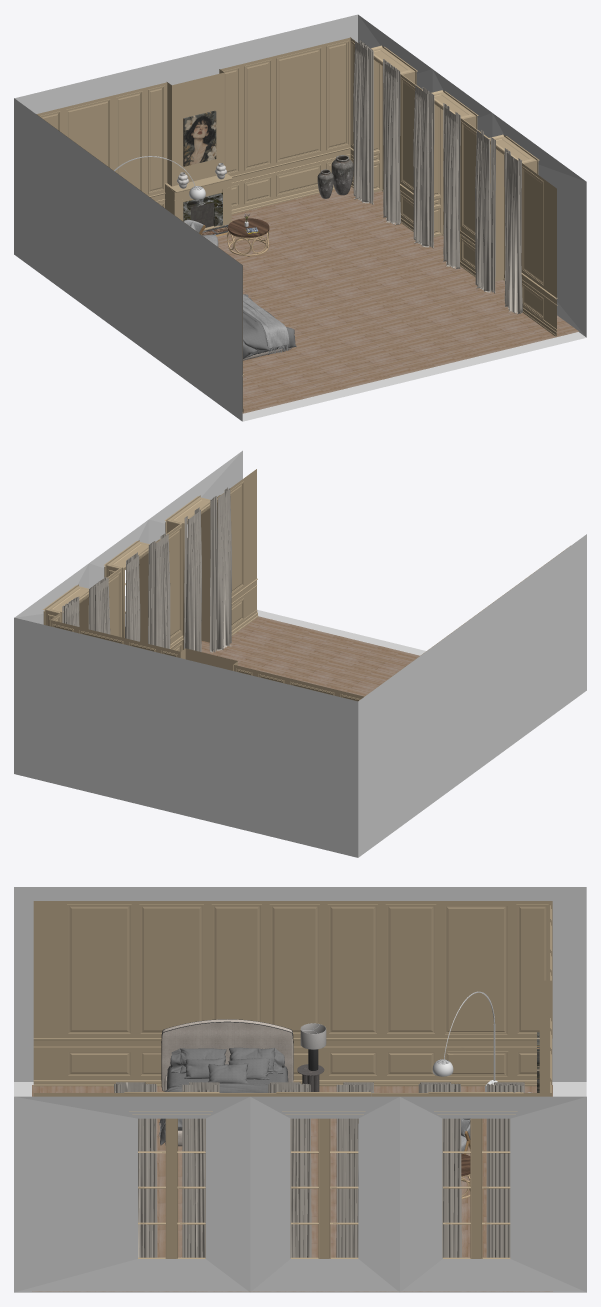
Rendered from Room_V2.11.glb.
3 views of the same model, one above another, from view 1: azimuth 30°, elevation 25°; view 2: azimuth 150°, elevation 25°; view 3: azimuth 270°, elevation 25° (orthographic). The views are drawn at different scales.
Visible parts, largest first — view 1: Blocker, Floor#Floor Room 2, Walls 2#EGE Atlas, Walls 1#EGE Atlas, Curtains#Curtains, Curtains#EGE Atlas, EGE Texture Atlas 1 Room 1#EGE Texture Atlas 1 Room 1, Painting, EGE Texture Atlas 2 Room 1#Blanket, Bed#Sheets, table_wood; view 2: Blocker, Walls 1#EGE Atlas, Floor#Floor Room 2, Curtains#Curtains, Curtains#EGE Atlas, Walls 2#EGE Atlas; view 3: Blocker, Walls 3#EGE Atlas, Curtains#EGE Atlas, Walls 1#EGE Atlas, Floor#Floor Room 2, Bed#Sheets, Curtains#Curtains, Bed#Bed, Walls 2#EGE Atlas, EGE Texture Atlas 2 Room 1#EGE Texture Atlas 2 Room 1, EGE Atlas#EGE Atlas.003.
Boxes of the visible parts, x1,y1,x2,y2 form: Blocker: (14, 14, 586, 421); Floor#Floor Room 2: (217, 186, 578, 413); Walls 2#EGE Atlas: (37, 37, 382, 230); Walls 1#EGE Atlas: (373, 46, 557, 336); Curtains#Curtains: (353, 41, 522, 314); Curtains#EGE Atlas: (359, 40, 521, 313); EGE Texture Atlas 1 Room 1#EGE Texture Atlas 1 Room 1: (183, 155, 353, 236); Painting: (183, 110, 216, 166); EGE Texture Atlas 2 Room 1#Blanket: (243, 294, 289, 354); Bed#Sheets: (243, 294, 296, 358); table_wood: (228, 218, 269, 237); Blocker: (14, 450, 586, 857); Walls 1#EGE Atlas: (43, 469, 258, 651); Floor#Floor Room 2: (201, 616, 419, 696); Curtains#Curtains: (66, 488, 231, 651); Curtains#EGE Atlas: (62, 487, 228, 652); Walls 2#EGE Atlas: (44, 610, 363, 701); Blocker: (14, 887, 586, 1292); Walls 3#EGE Atlas: (33, 901, 552, 1086); Curtains#EGE Atlas: (114, 1083, 523, 1257); Walls 1#EGE Atlas: (33, 1092, 523, 1258); Floor#Floor Room 2: (32, 1085, 552, 1291); Bed#Sheets: (160, 1047, 288, 1145); Curtains#Curtains: (116, 1082, 524, 1257); Bed#Bed: (161, 1019, 293, 1146); Walls 2#EGE Atlas: (523, 905, 552, 1096); EGE Texture Atlas 2 Room 1#EGE Texture Atlas 2 Room 1: (297, 1023, 326, 1091); EGE Atlas#EGE Atlas.003: (432, 991, 495, 1080).
Bounding box in the file's own units: 7.87 × 3.41 × 9.04.
Materials: 25 (21 with a texture image).
